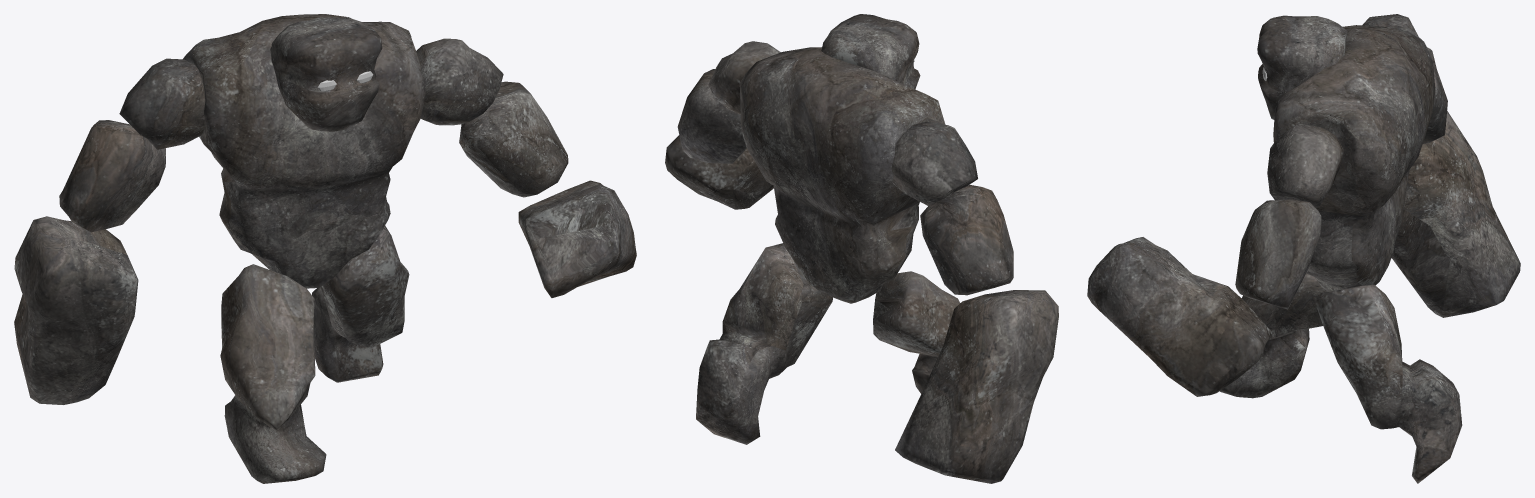
Rendered from walk_000008.obj.
3 views of the same model, side by side, from view 1: azimuth 30°, elevation 25°; view 2: azimuth 150°, elevation 25°; view 3: azimuth 270°, elevation 25° (orthographic). The views are drawn at different scales.
Parts seen in each view (by area): view 1: hands&leg.001_ice.003, torso.001_ice.005, head.001_ice.004; view 2: hands&leg.001_ice.003, torso.001_ice.005, head.001_ice.004; view 3: hands&leg.001_ice.003, torso.001_ice.005, head.001_ice.004.
Boxes of the visible parts, x1,y1,x2,y2 form: hands&leg.001_ice.003: (14,38,636,483); torso.001_ice.005: (183,14,425,288); head.001_ice.004: (270,17,382,131); hands&leg.001_ice.003: (665,41,1058,483); torso.001_ice.005: (739,47,945,303); head.001_ice.004: (821,14,920,89); hands&leg.001_ice.003: (1087,14,1520,483); torso.001_ice.005: (1273,25,1435,291); head.001_ice.004: (1257,15,1347,119).
Size of the model in its own units: 11.59 by 9.36 by 9.07.
2 materials, 1 textured.
